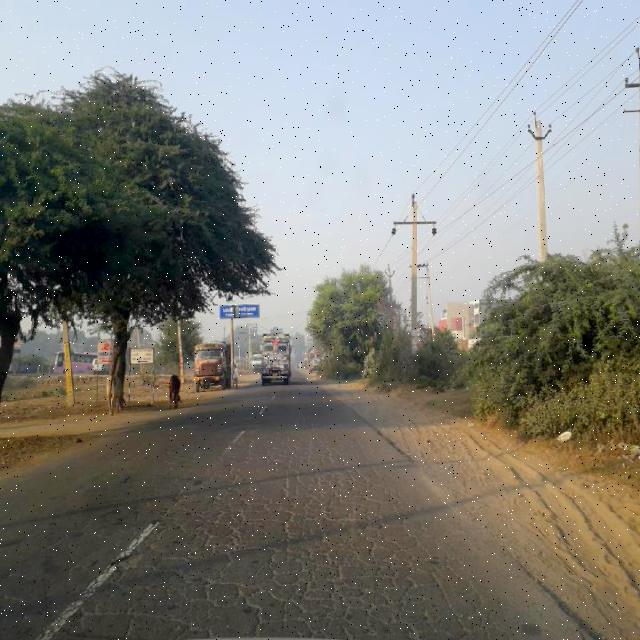D20: (1, 460, 487, 634)
D40: (87, 541, 160, 586)
